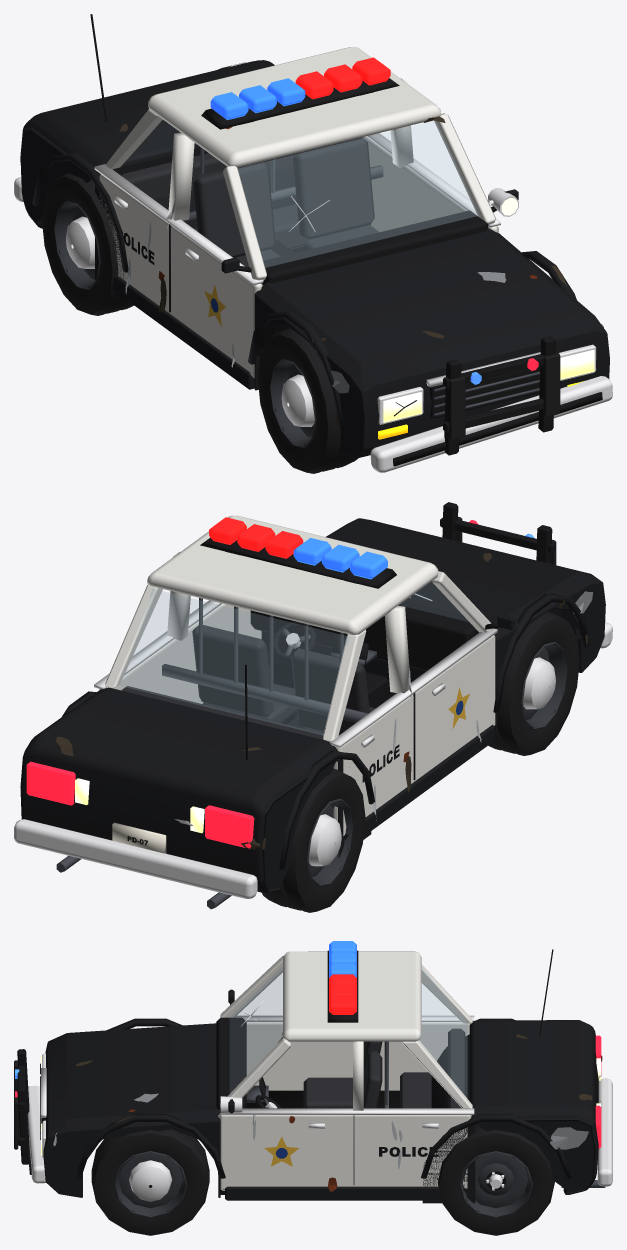
File: police_car.glb
3 views of the same model, one above another, from view 1: azimuth 30°, elevation 25°; view 2: azimuth 150°, elevation 25°; view 3: azimuth 270°, elevation 25° (orthographic). The views are drawn at different scales.
Parts seen in each view (by area): view 1: Body, WheelFR, WheelRR, LightBar; view 2: Body, WheelFR, WheelRR, LightBar, Steering; view 3: Body, WheelFL, WheelRL, LightBar.
Boxes of the visible parts, x1,y1,x2,y2 form: Body: (14,14,612,472); WheelFR: (257,328,358,473); WheelRR: (42,173,133,315); LightBar: (201,57,399,129); Body: (14,502,612,909); WheelFR: (488,612,579,755); WheelRR: (262,768,365,912); LightBar: (200,517,396,588); Steering: (273,621,316,661); Body: (14,949,612,1203); WheelFL: (91,1129,209,1235); WheelRL: (437,1125,554,1235); LightBar: (327,941,358,1022).
Size of the model in its own units: 1.25 by 1.09 by 2.74.
